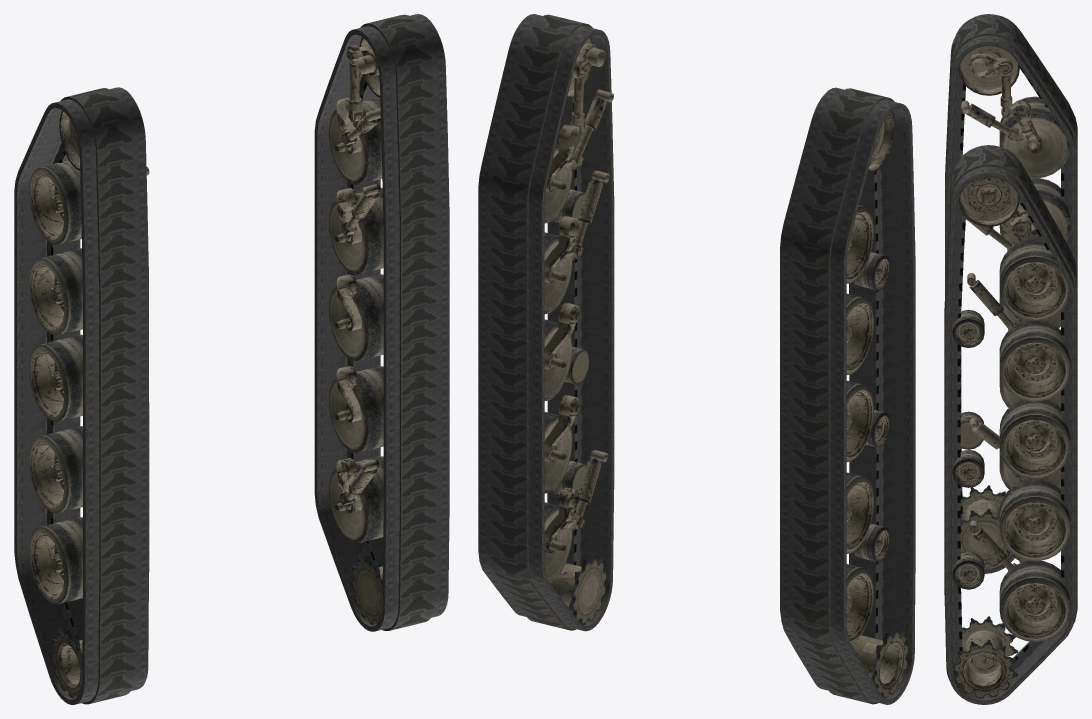
File: Chassis.glb
The picture shows the model from 3 angles, left to right: view 1: azimuth 30°, elevation 25°; view 2: azimuth 150°, elevation 25°; view 3: azimuth 270°, elevation 25°; orthographic projection. The views are drawn at different scales.
Parts seen in each view (by area): view 1: set_1_group_0, set_0_group_0, set_3_group_0, set_2_group_0; view 2: set_1_group_0, set_0_group_0, set_3_group_0, set_2_group_0; view 3: set_3_group_0, set_0_group_0, set_2_group_0, set_1_group_0.
Part boxes in pixels (x1=…): set_1_group_0: x1=14, y1=87, x2=149, y2=704; set_0_group_0: x1=314, y1=14, x2=449, y2=631; set_3_group_0: x1=328, y1=37, x2=383, y2=624; set_2_group_0: x1=29, y1=110, x2=149, y2=698; set_1_group_0: x1=780, y1=87, x2=915, y2=704; set_0_group_0: x1=478, y1=14, x2=614, y2=631; set_3_group_0: x1=544, y1=37, x2=613, y2=624; set_2_group_0: x1=846, y1=111, x2=908, y2=698; set_3_group_0: x1=952, y1=177, x2=1070, y2=698; set_0_group_0: x1=944, y1=145, x2=1077, y2=704; set_2_group_0: x1=958, y1=46, x2=1070, y2=566; set_1_group_0: x1=945, y1=14, x2=1077, y2=573.
Bounding box in the file's own units: 3.5 × 5.52 × 1.24.
Materials: 4 (4 with a texture image).
